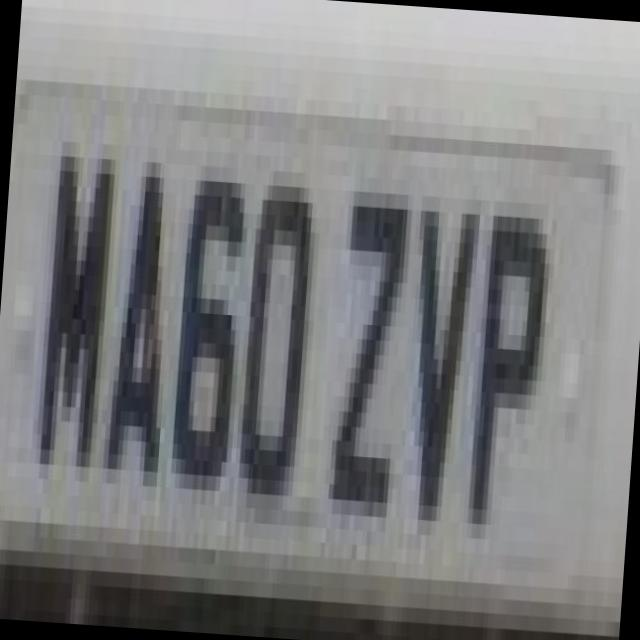LicensePlate: (0, 81, 614, 599)
